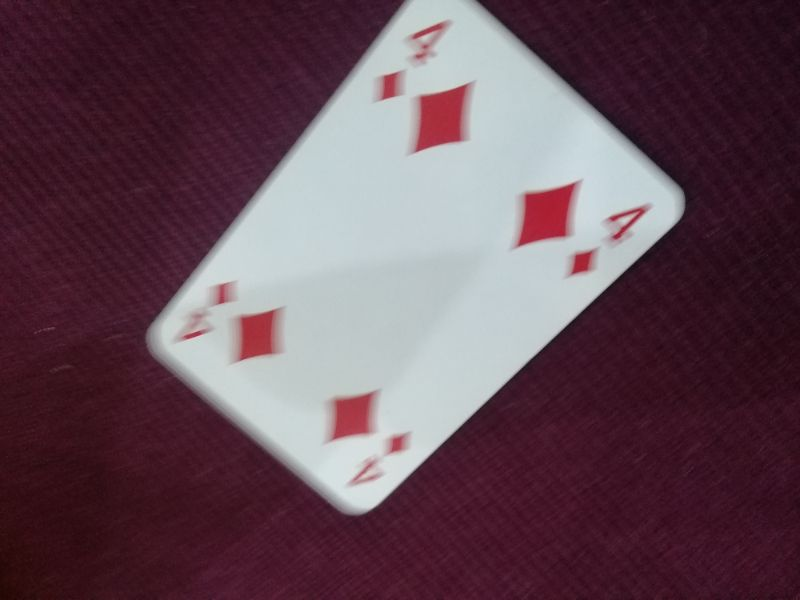4d: (368, 14, 452, 108), (565, 198, 652, 282)
